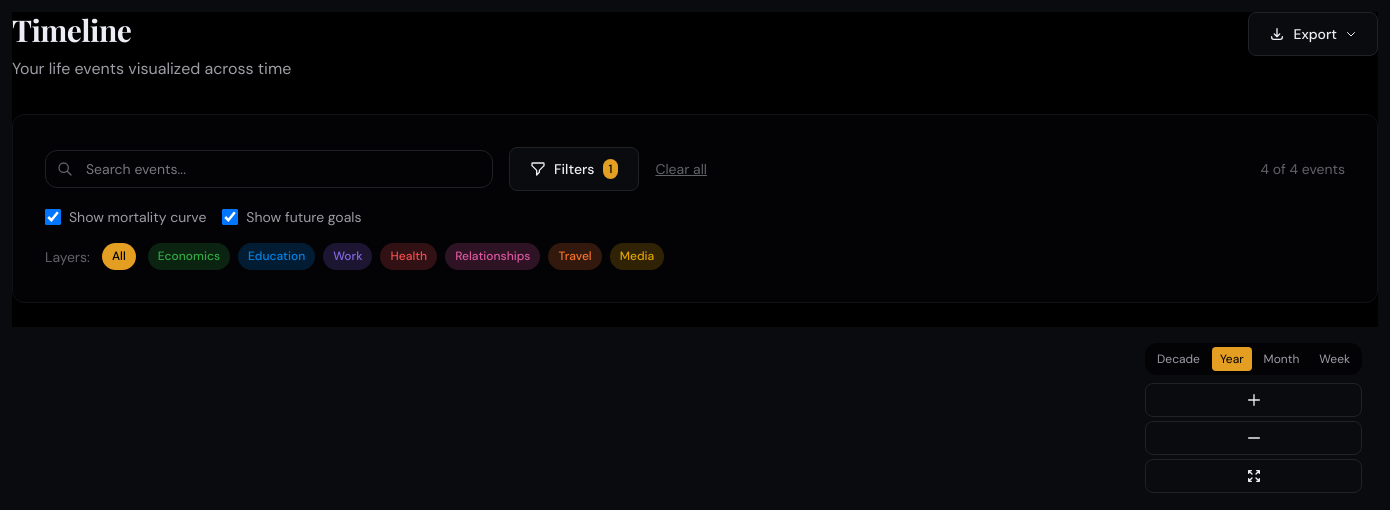
Test: TimelineView › Search Filtering › filters events by search query
Expected: the text "4 of 4 events" is shown, left=1260, top=159, right=1345, bottom=179
In the field with placeholder "Search events...": {"x": 269, "y": 169} left=45, top=150, right=493, bottom=188, type "Paris"
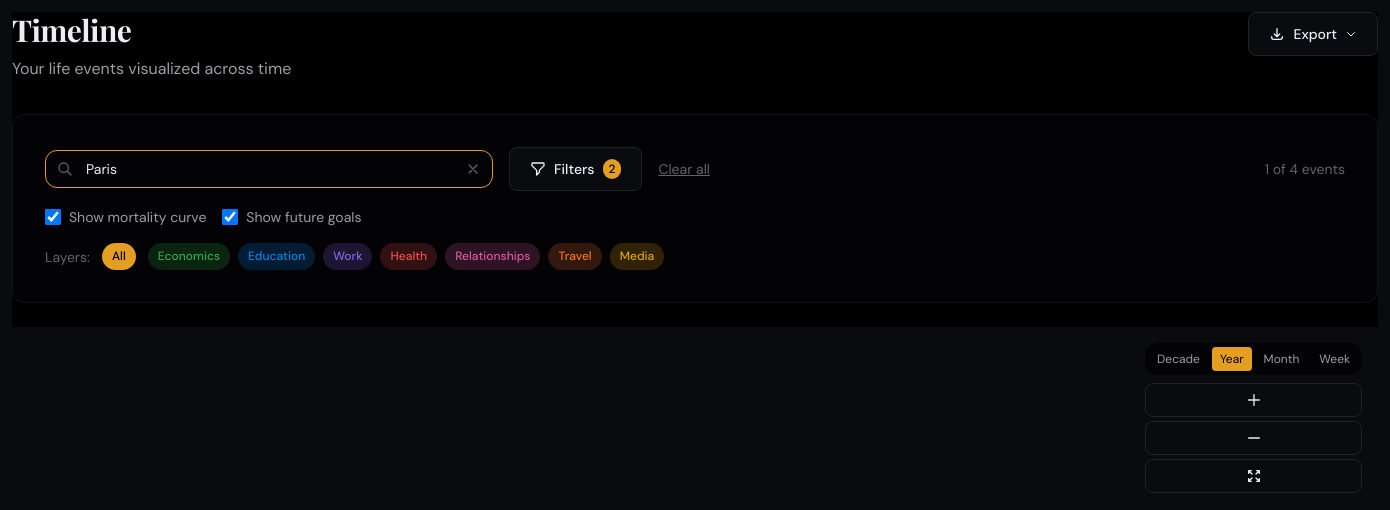
Now the text "1 of 4 events" is shown, box left=1265, top=159, right=1345, bottom=179
